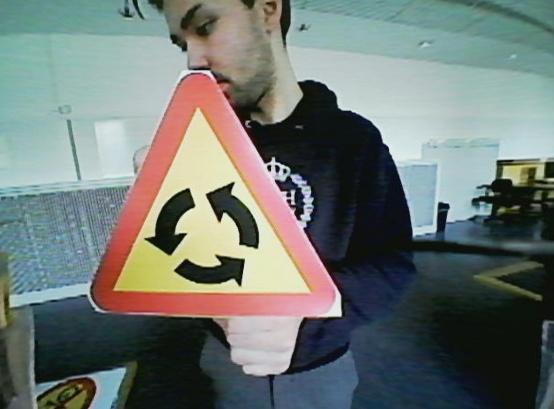roundabout_warning: (70, 65, 350, 325)
